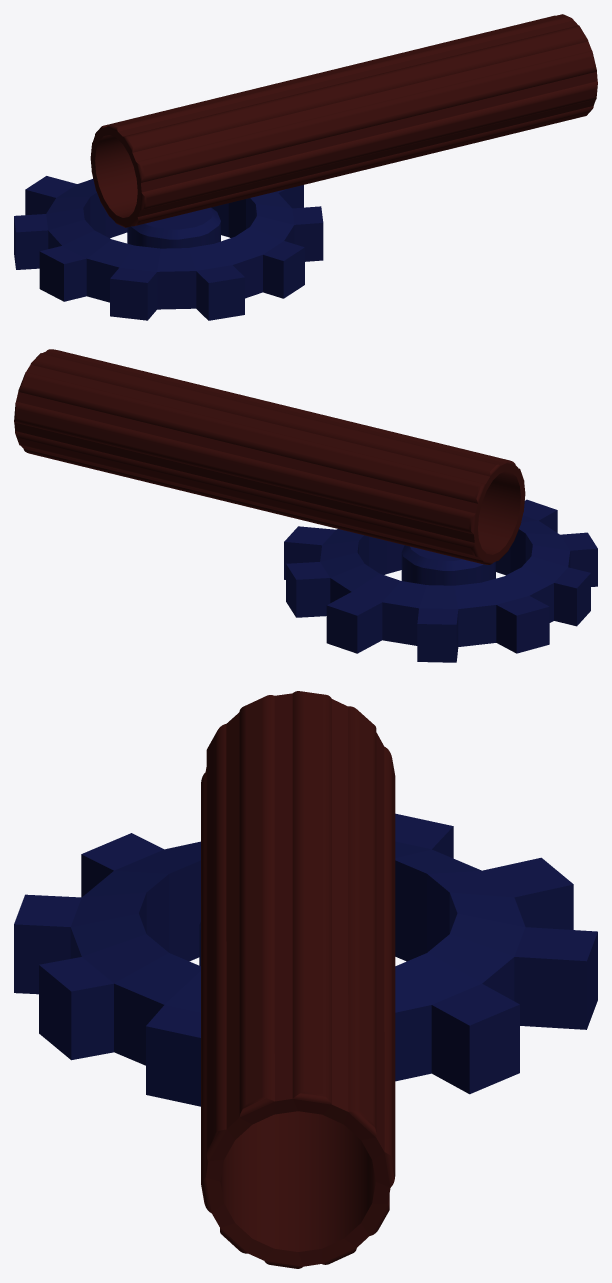
Rendered from gearandpipesp.fbx.
3 views of the same model, one above another, from view 1: azimuth 30°, elevation 25°; view 2: azimuth 150°, elevation 25°; view 3: azimuth 270°, elevation 25° (orthographic). The views are drawn at different scales.
Parts seen in each view (by area): view 1: pipe_low, gear_low; view 2: pipe_low, gear_low; view 3: pipe_low, gear_low.
Boxes of the visible parts, x1,y1,x2,y2 form: pipe_low: (90,14,597,227); gear_low: (14,176,323,320); pipe_low: (14,349,525,564); gear_low: (284,499,597,662); pipe_low: (201,691,395,1268); gear_low: (14,813,597,1106).
Bounding box in the file's own units: 82.88 × 22.23 × 43.17.
